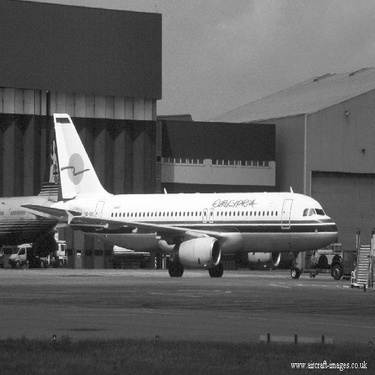airplane: (28, 84, 351, 315), (1, 112, 82, 255)
